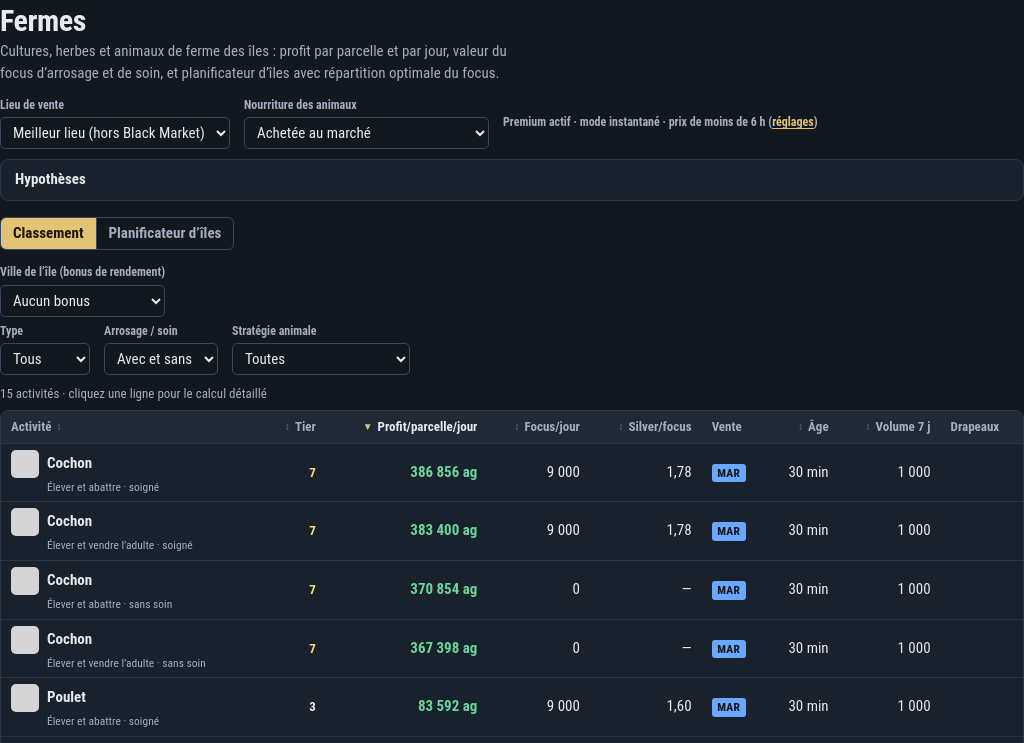
it: page Fermes › planificateur : parcelle sans données signalée, activité inconnue visible, quantités décimales
The image size is (1024, 743).
Step 1. Click the tab "Planificateur d’îles" → (164, 234), box [96,218,233,249]
(page scrolled)
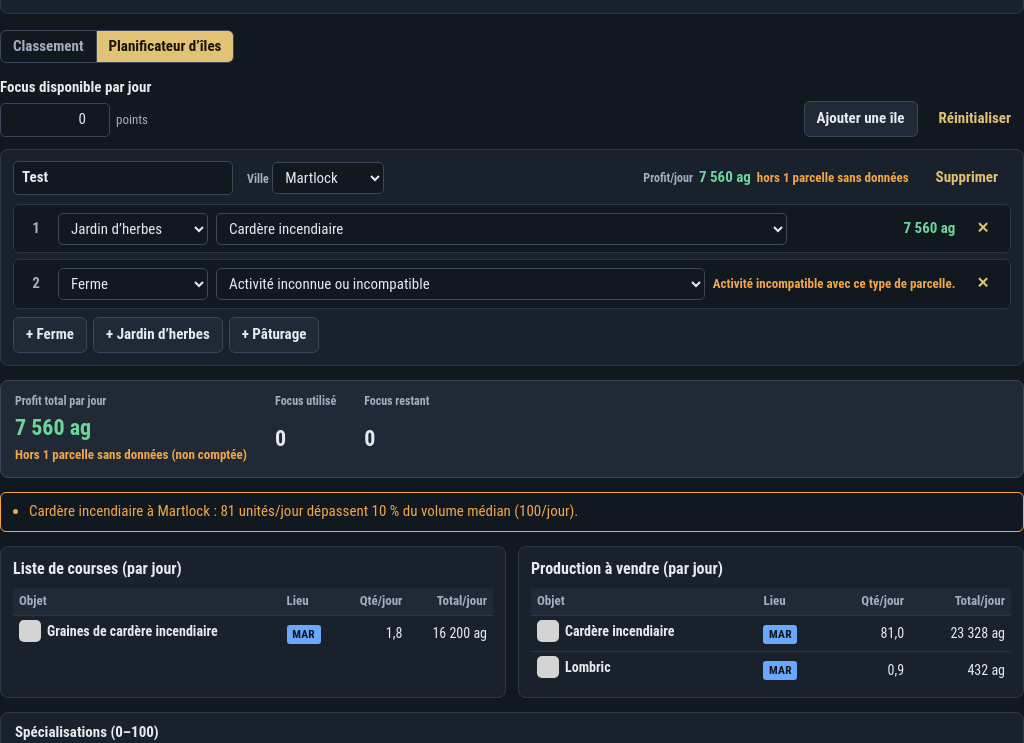
Now the text with test id "farm-total-missing" shows "Hors 1 parcelle sans données", box [15,446,247,465]
Now the 4th dropdown named "Activité de la parcelle 2" shows "Activité inconnue ou incompatible", box [216,268,705,300]
Now the element "Liste de courses (par jour)" shows "1,8", box [386,625,402,641]
